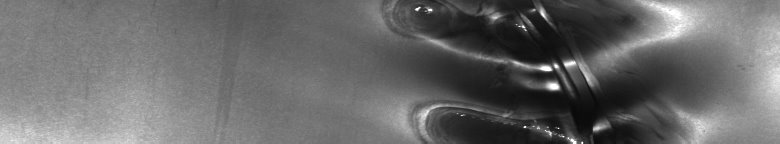ke: (415, 4, 639, 136)
